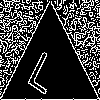L: (25, 41, 66, 96)
